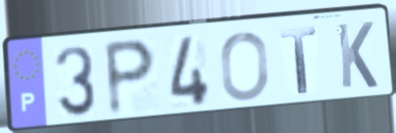3: (53, 44, 98, 120)
4: (167, 32, 212, 109)
K: (334, 19, 380, 91)
O: (219, 29, 272, 103)
P: (101, 37, 159, 119)
T: (278, 25, 320, 96)
